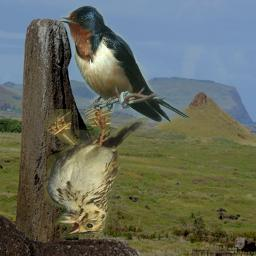Sparrow: (44, 109, 149, 239)
Swallow: (60, 5, 190, 122)
